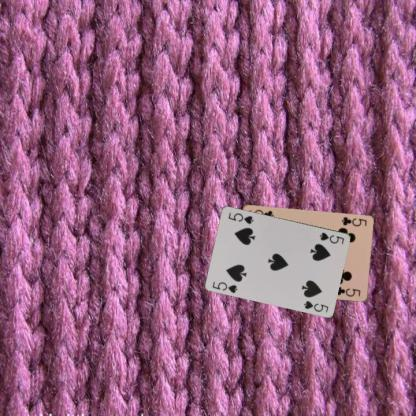5c: (338, 214, 368, 228)
5s: (317, 229, 346, 245), (209, 279, 238, 294)
